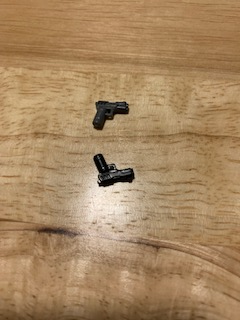pistol: (91, 153, 137, 186), (90, 96, 129, 134)
